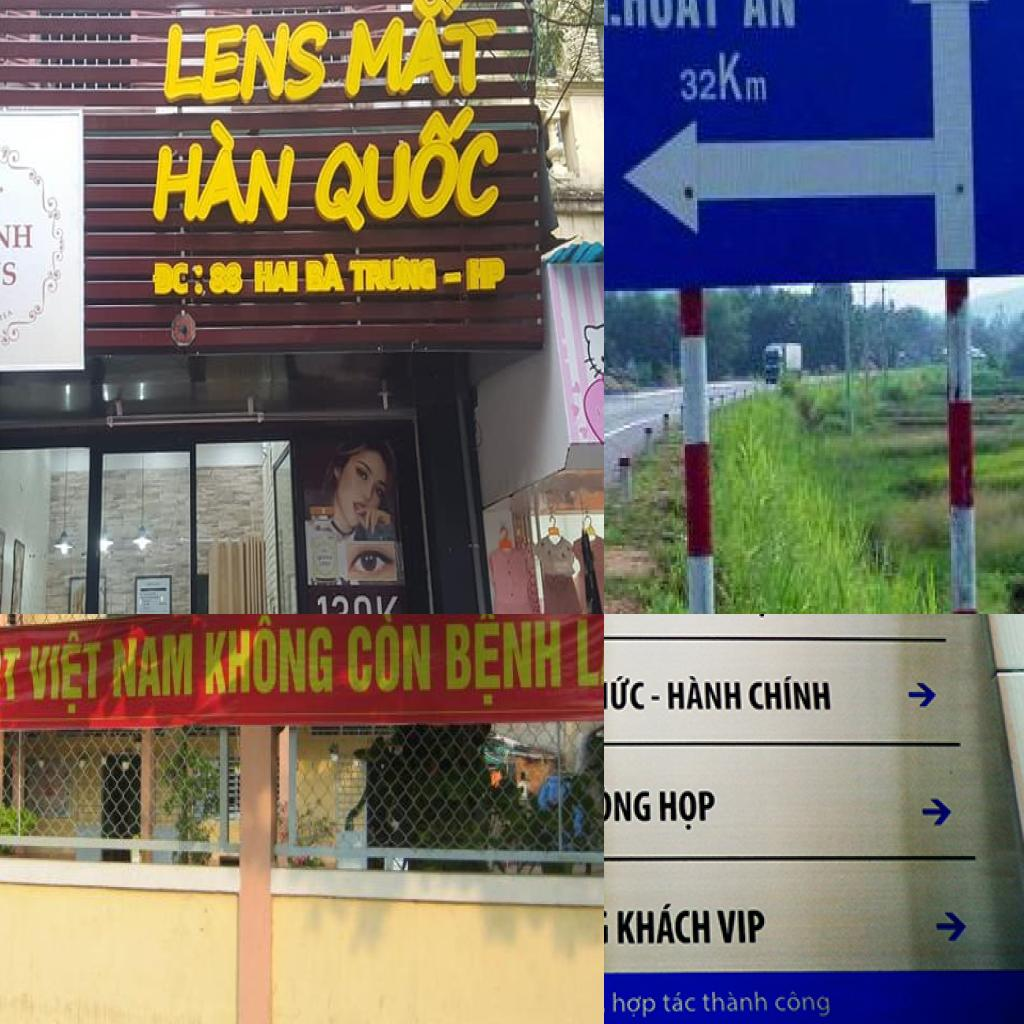text: (307, 102, 508, 235), (340, 0, 508, 101), (153, 120, 303, 228), (163, 20, 333, 108), (441, 614, 565, 711), (201, 614, 336, 702), (345, 614, 433, 694), (26, 628, 100, 720), (110, 631, 194, 699), (613, 899, 715, 946), (745, 672, 835, 715), (349, 254, 438, 295), (604, 0, 719, 30), (666, 674, 744, 715), (657, 786, 718, 836), (604, 780, 655, 827), (0, 634, 26, 721), (714, 907, 767, 948), (152, 262, 205, 300), (302, 252, 348, 294), (700, 988, 770, 1015), (775, 988, 833, 1020), (604, 672, 647, 712), (315, 595, 404, 614), (740, 0, 799, 28), (254, 262, 300, 295), (611, 990, 659, 1020), (466, 258, 507, 292), (207, 262, 244, 298), (0, 222, 35, 255), (662, 988, 698, 1016), (0, 262, 19, 290), (737, 614, 789, 623), (0, 306, 16, 329)
